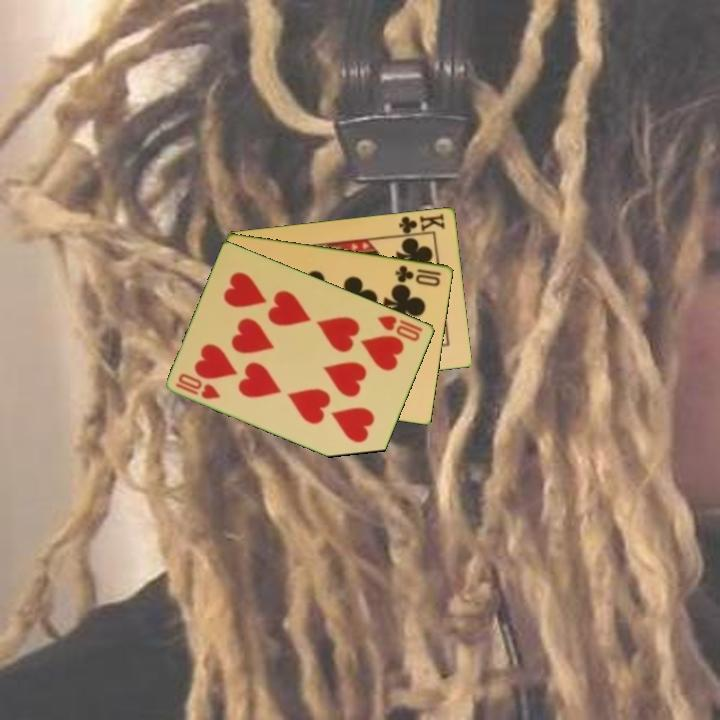10c: (392, 262, 444, 289)
10h: (172, 369, 224, 402), (374, 312, 426, 344)
Kc: (395, 210, 448, 238)
